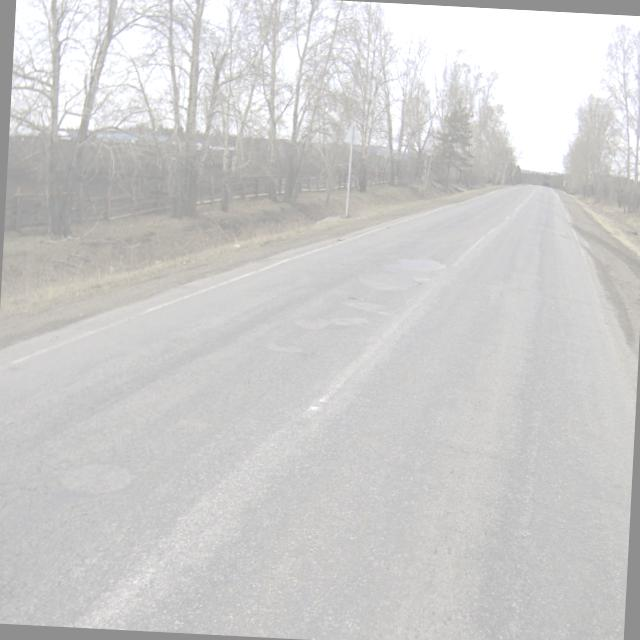road: (0, 185, 634, 640)
